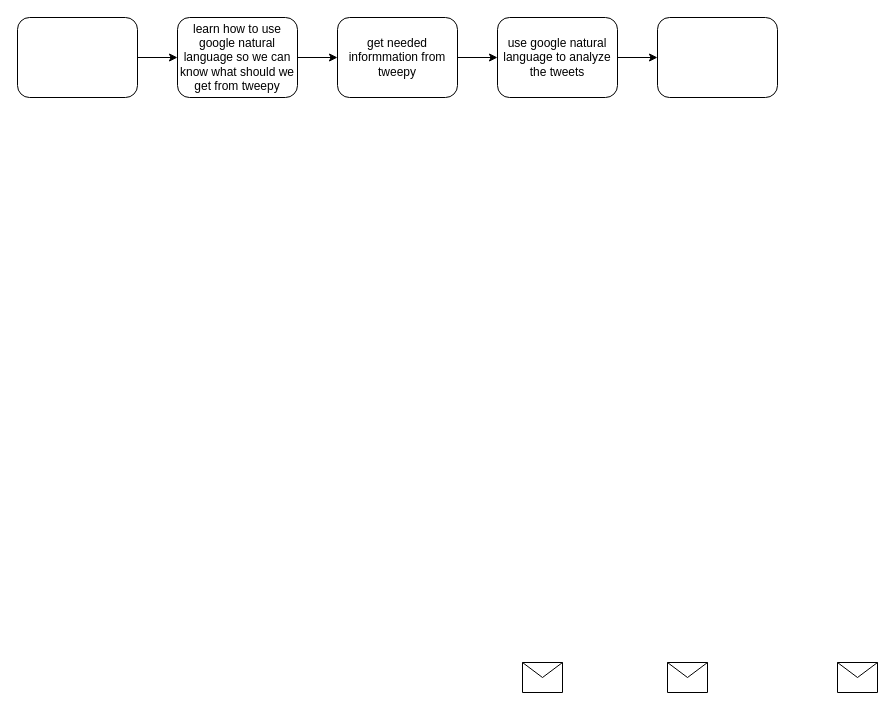
Image size: 895x710. Some labels were removed from this diagram. Here are the shapes that lost their labels. From the top down, the centre of each, then its label:
At pixel 77 57: "decide the topic of mini project".
At pixel 717 57: "design the output according to the output of google natural language".
